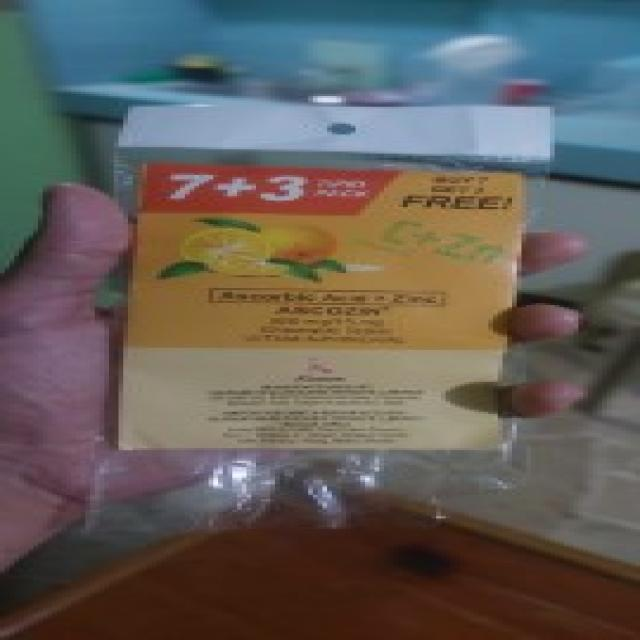Cacat: (110, 106, 543, 520)
